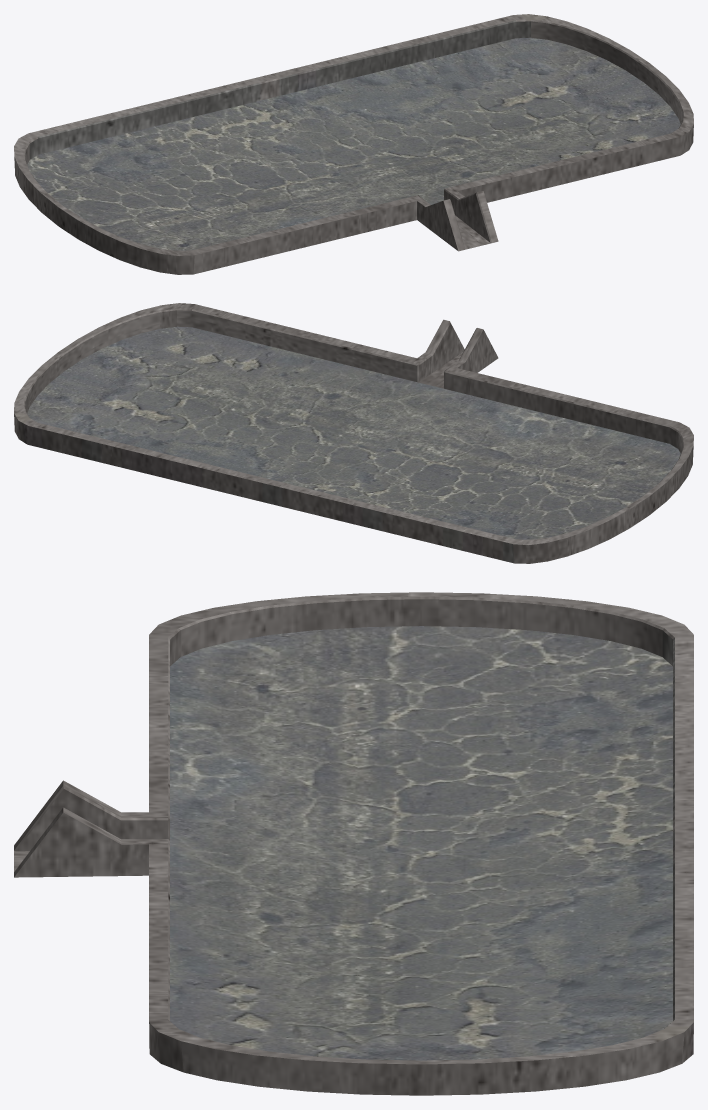
File: StadiumBaseUV.obj
3 renders of one model, top to bottom at view 1: azimuth 30°, elevation 25°; view 2: azimuth 150°, elevation 25°; view 3: azimuth 270°, elevation 25°, orthographic. The views are drawn at different scales.
Visible parts, largest first — view 1: StadiumShape; view 2: StadiumShape; view 3: StadiumShape.
Part boxes in pixels (box(x1,y1,x2,y2)): StadiumShape: box(14, 14, 693, 274); StadiumShape: box(14, 303, 693, 563); StadiumShape: box(14, 592, 693, 1095).
Size of the model in its own units: 300 by 22.1 by 182.
